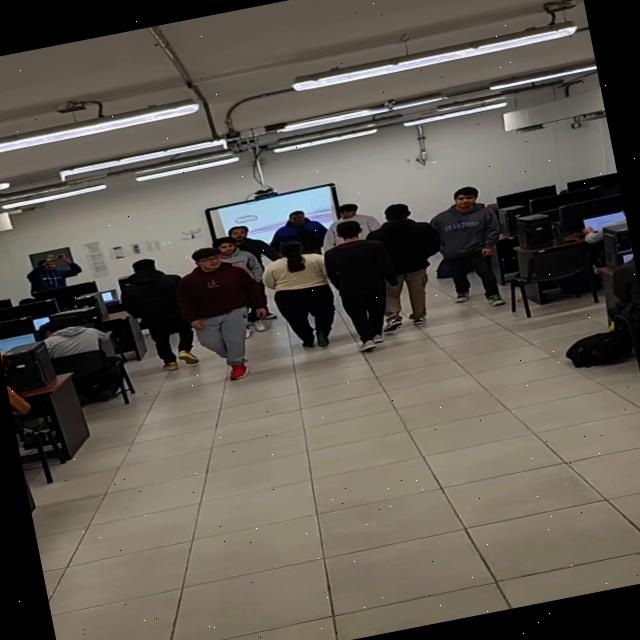Persona: (165, 236, 284, 390), (318, 212, 412, 355), (424, 182, 515, 316), (115, 252, 208, 378), (258, 234, 344, 357), (222, 218, 286, 278), (320, 193, 386, 250), (270, 205, 330, 257)
